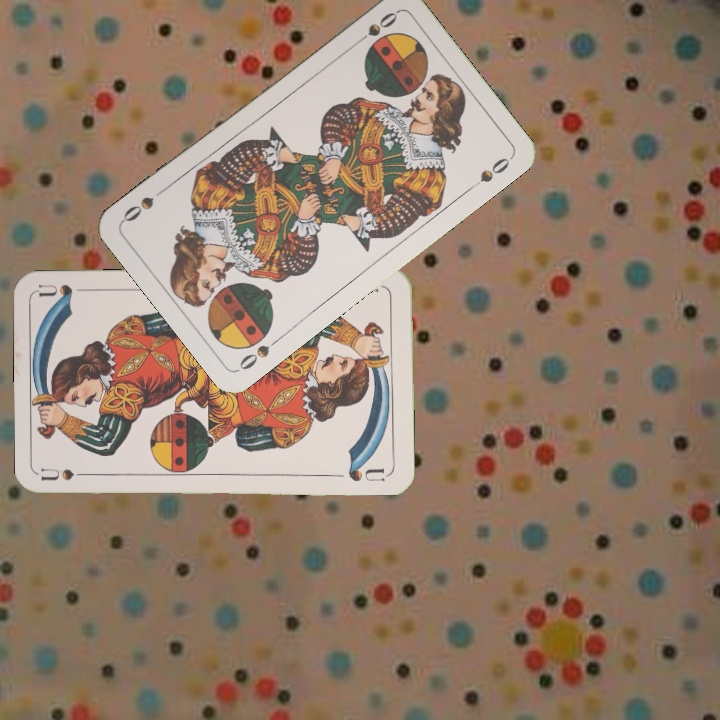SO: (349, 7, 400, 49), (235, 332, 285, 373)
SU: (39, 464, 98, 483)
